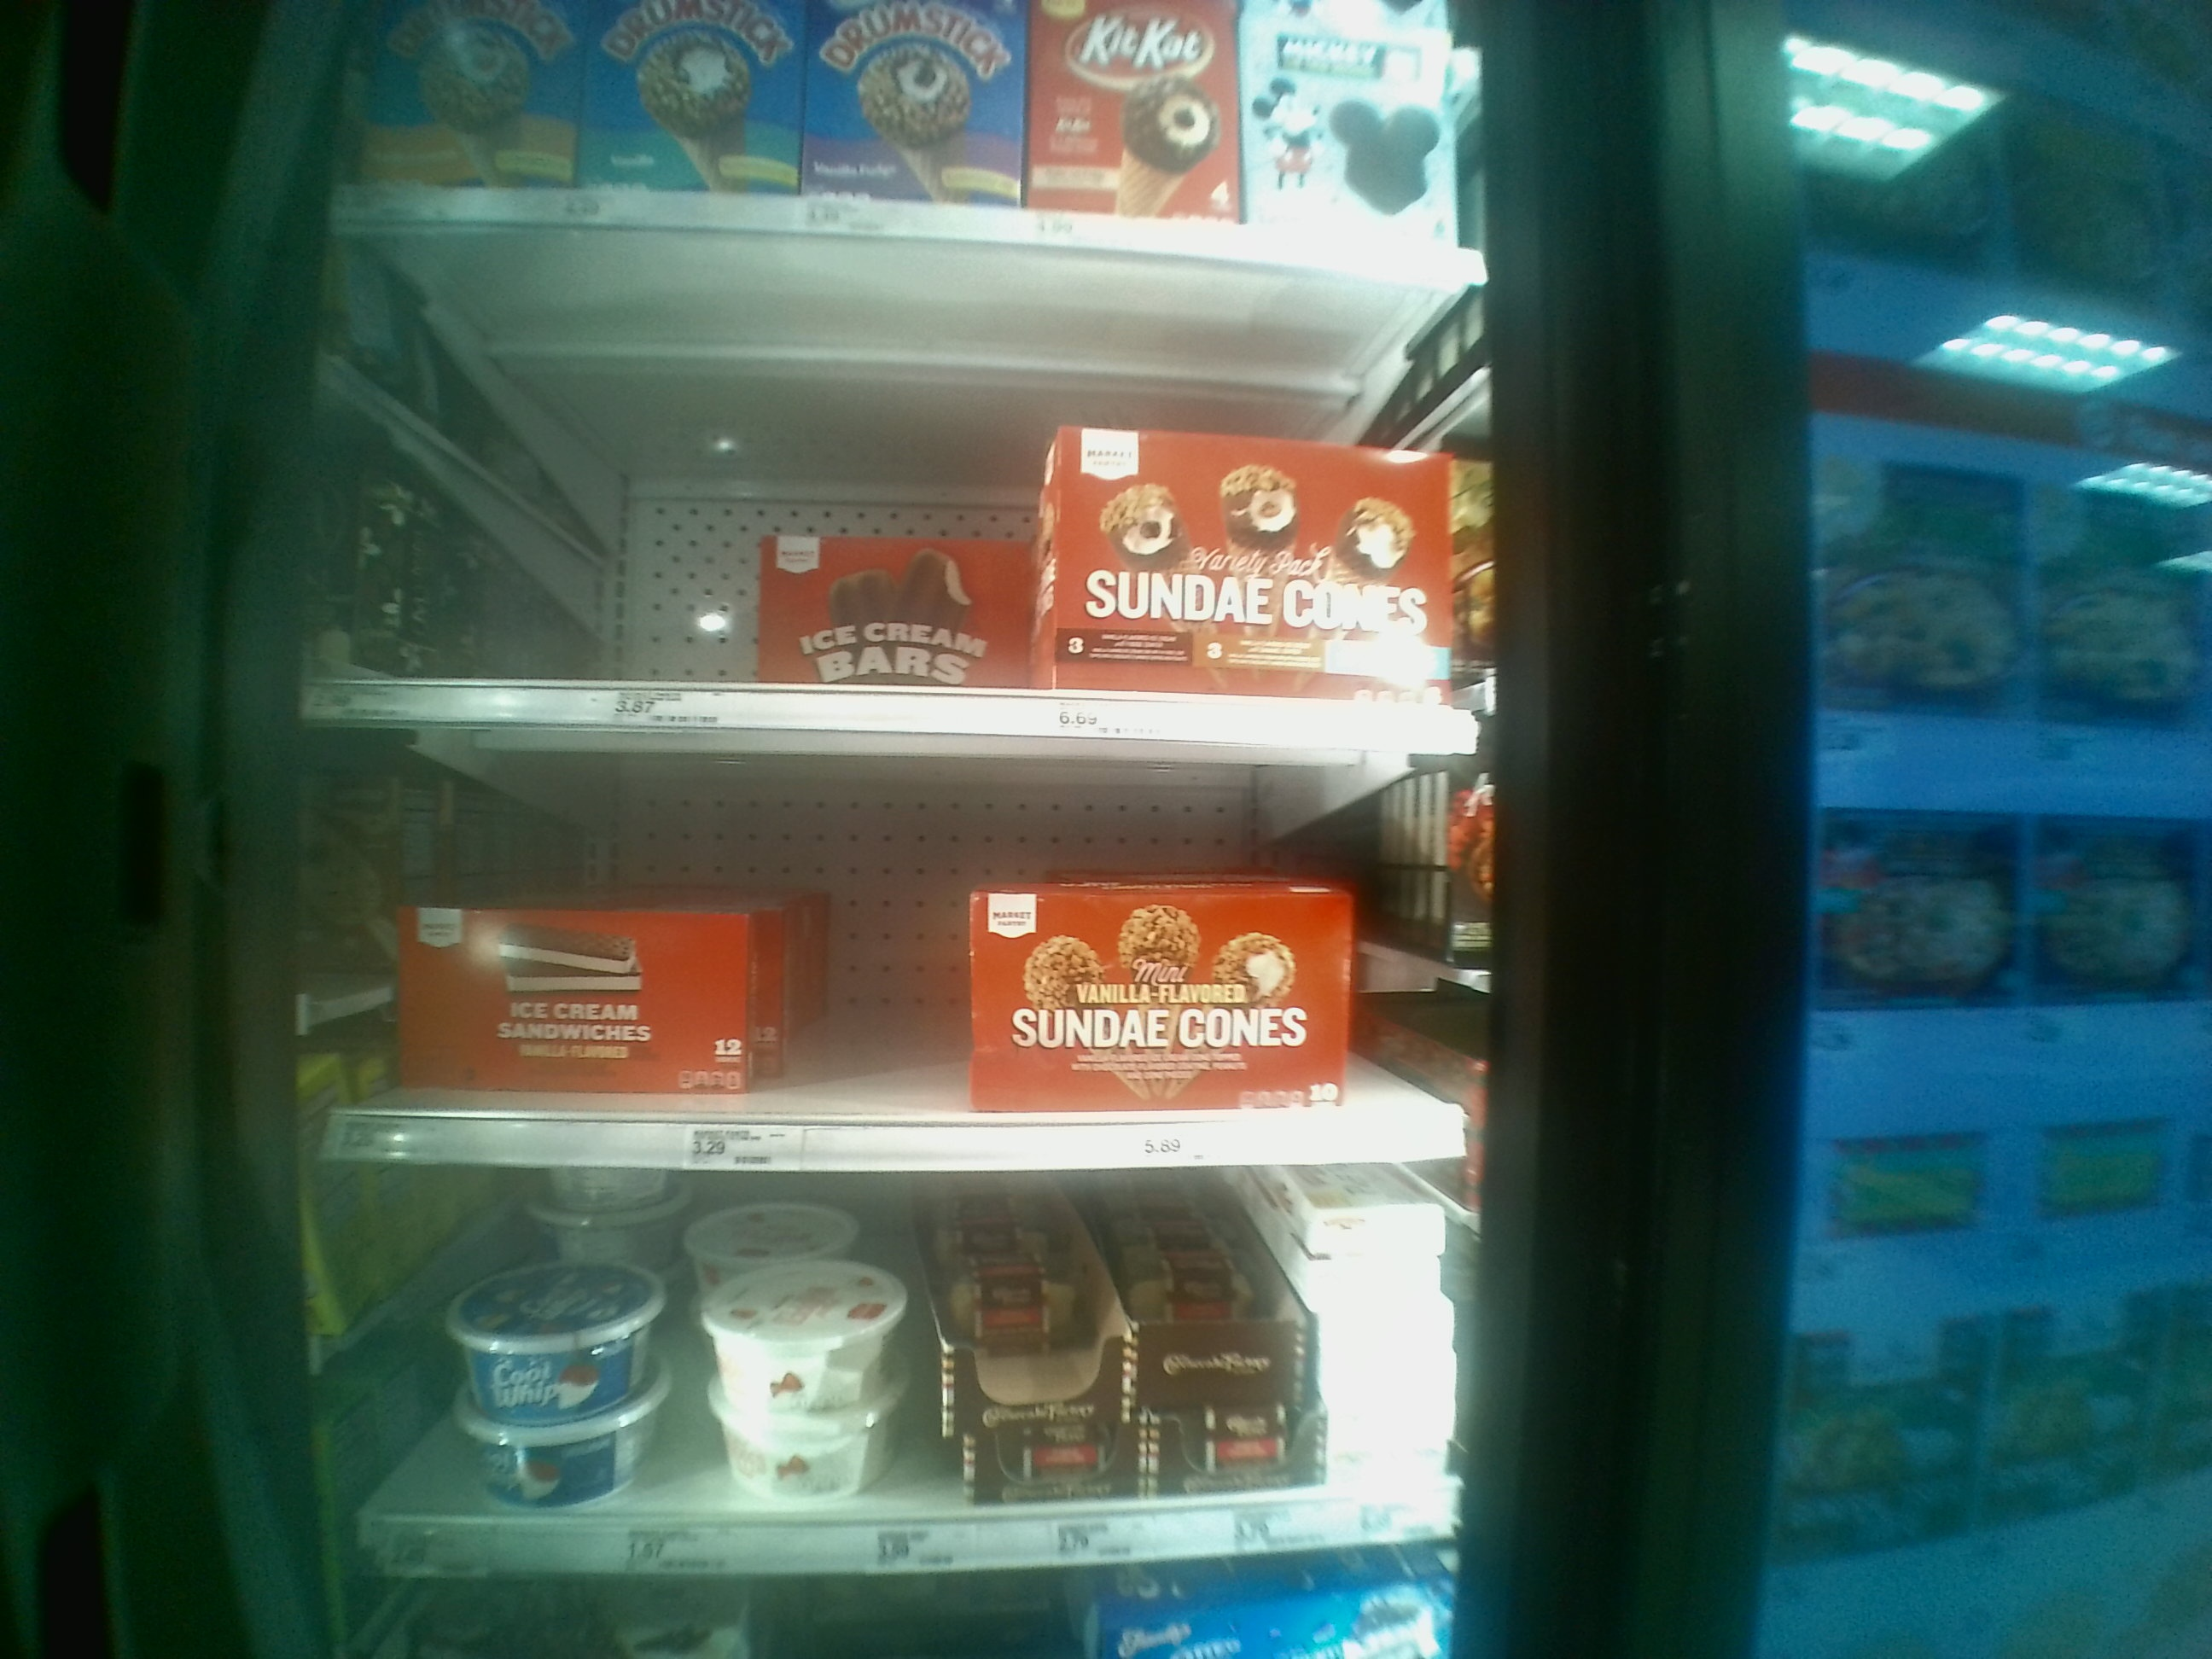shelf: (315, 232, 1486, 762), (308, 716, 1474, 1162), (340, 1143, 1468, 1547)
